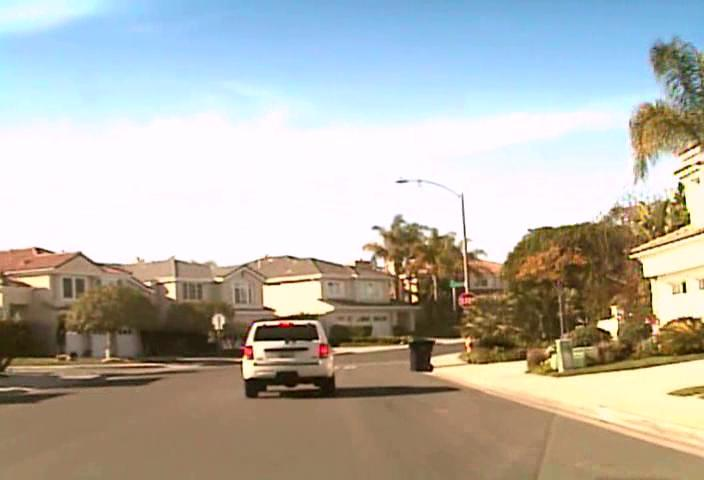stop: (457, 291, 477, 310)
